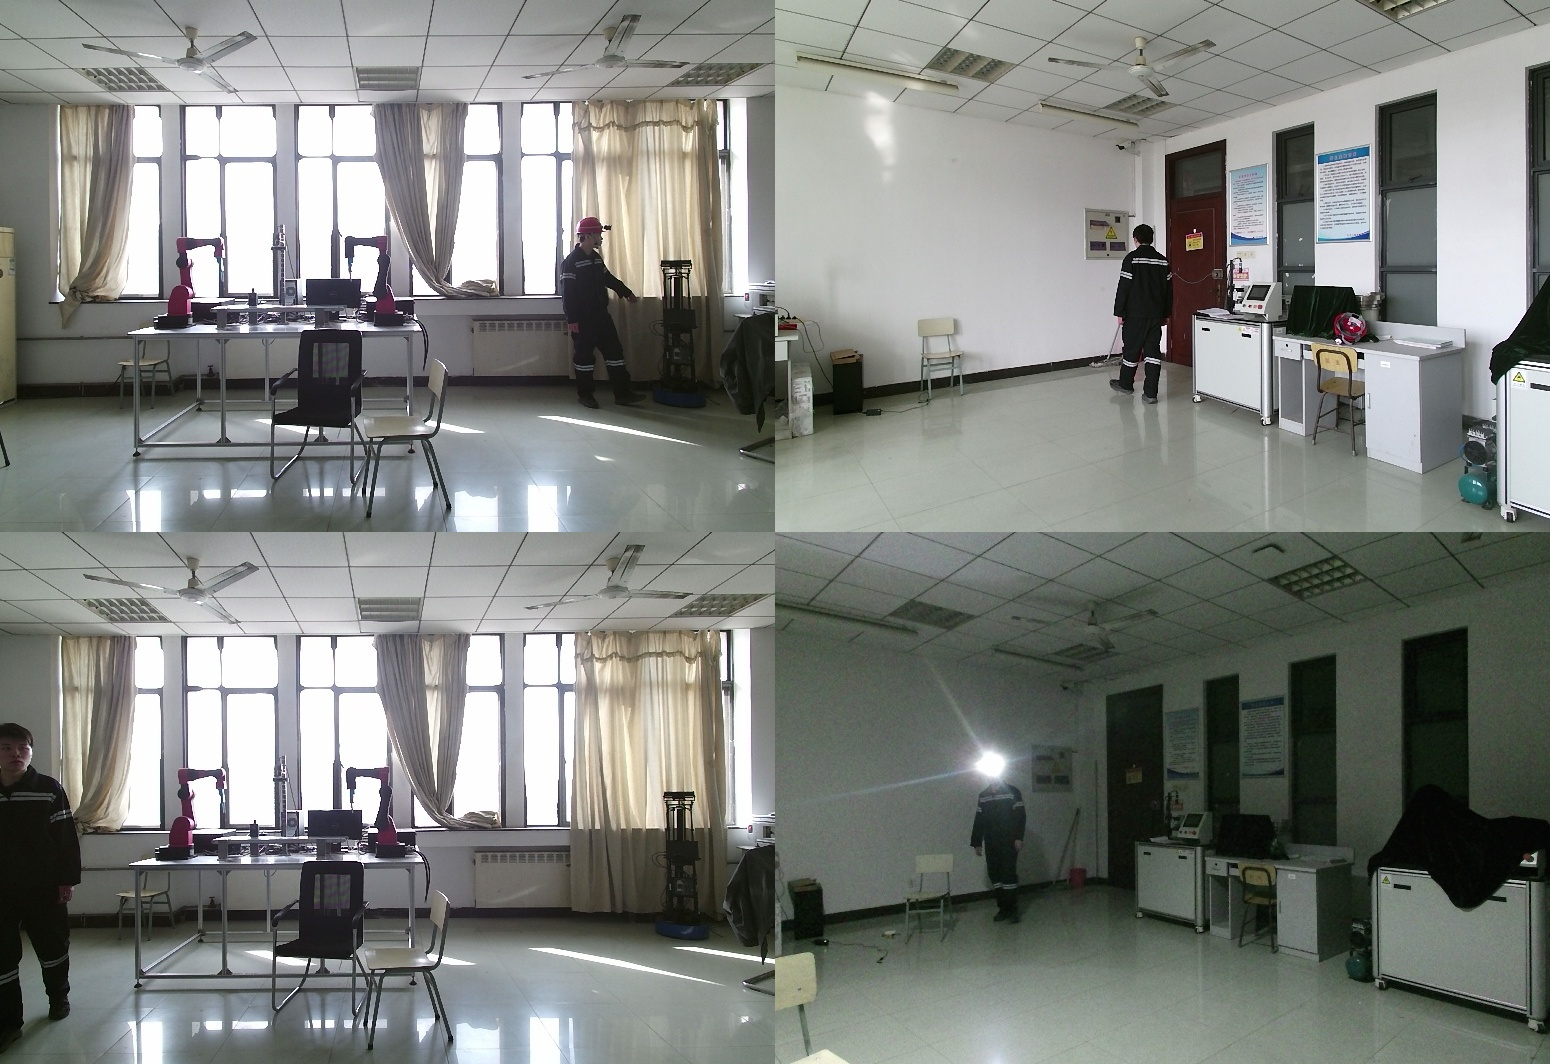person: (3, 723, 88, 1048), (559, 218, 652, 419), (1111, 226, 1179, 410), (969, 758, 1037, 928)
